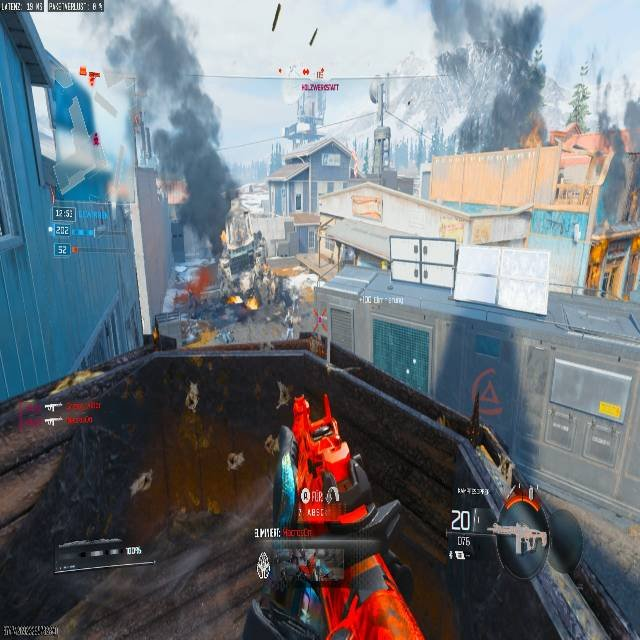player: (232, 393, 426, 639), (276, 274, 306, 340)
